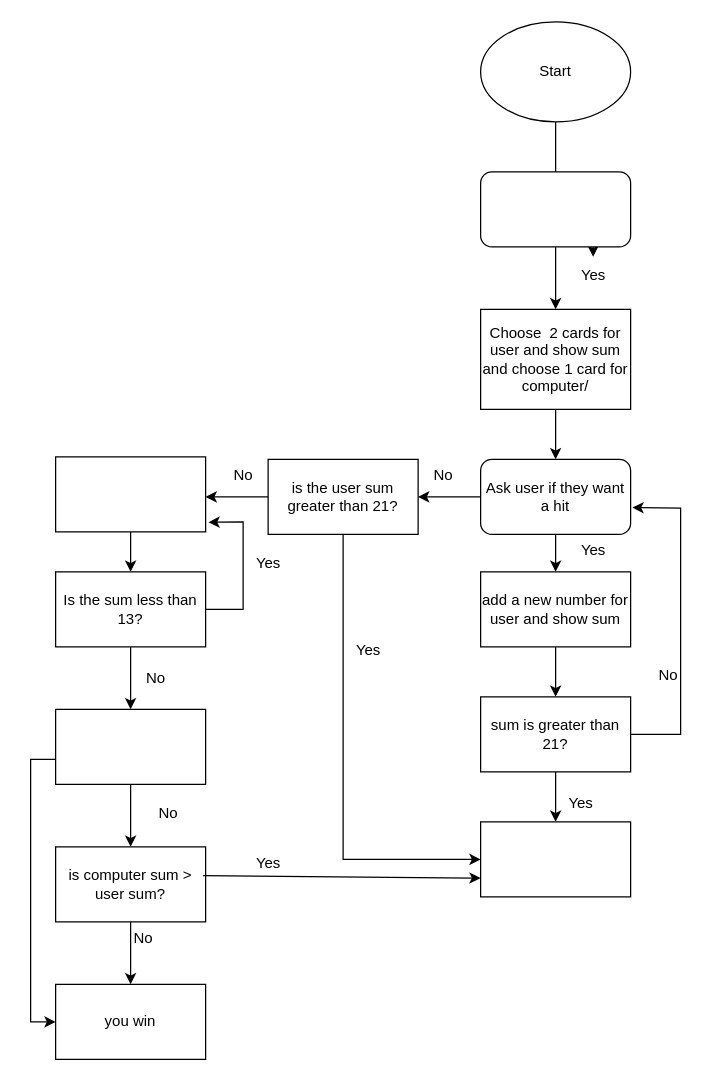
The diagram is 715 pixels wide and 1081 high, and some of its shapes have lost their labels. Each missing label, with the centre of its shape:
"Do you want to play game?" belongs at [555,209].
"Is the computer sum greater than 21" belongs at [130,746].
"pick the another number for the computer and find the computer sum" belongs at [130,494].
"you lose" belongs at [555,859].
